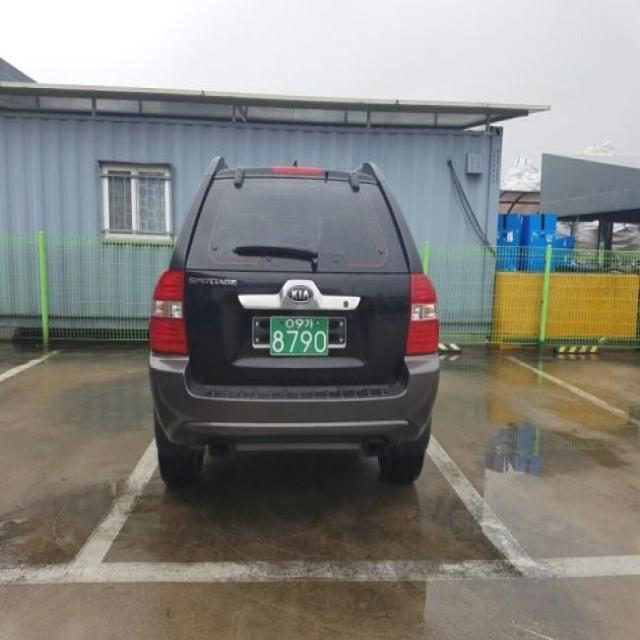car: (147, 150, 444, 497)
illegal_plate: (260, 313, 338, 362)
